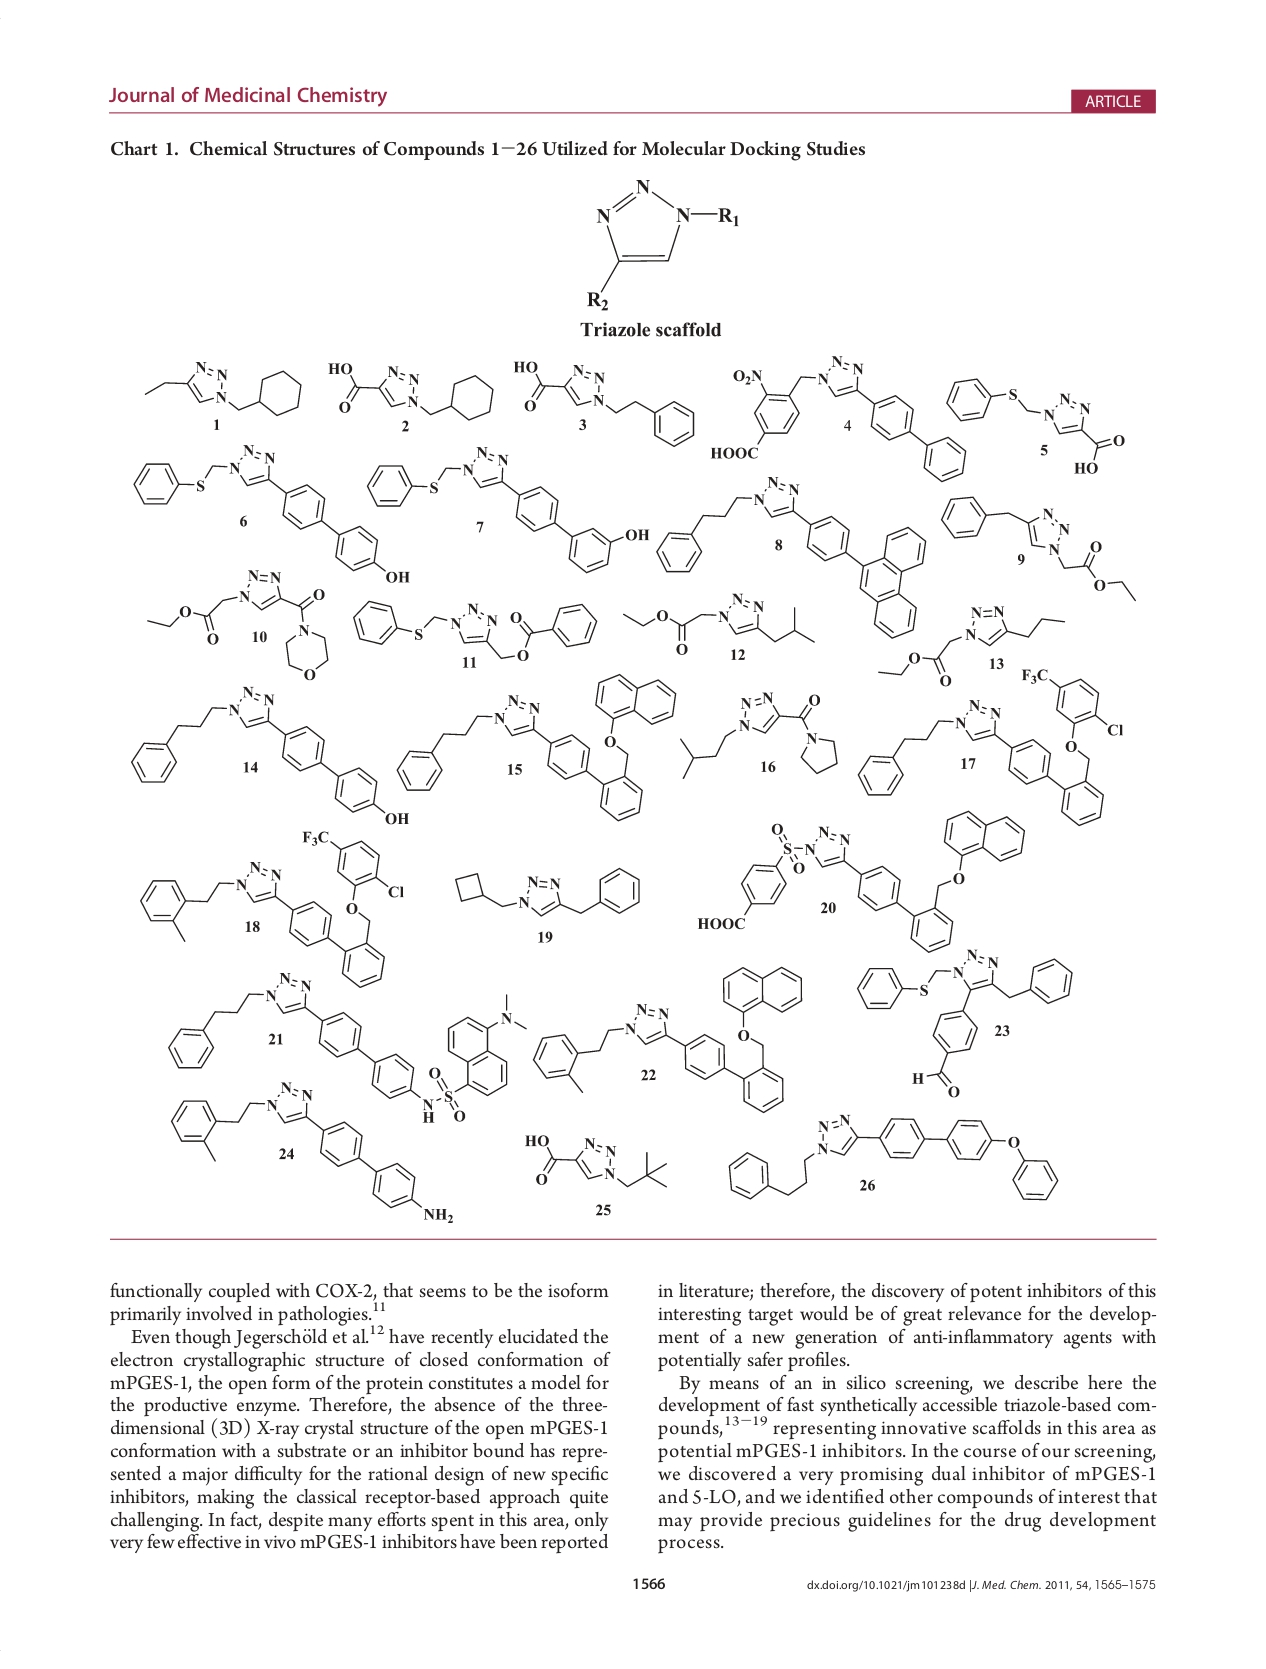exist_molecular: (164, 969, 528, 1122), (694, 807, 1027, 954), (653, 475, 930, 640), (137, 826, 406, 988), (394, 672, 681, 822), (855, 666, 1125, 826), (168, 1079, 457, 1226), (531, 965, 805, 1114), (132, 684, 411, 829), (132, 442, 410, 586), (364, 444, 652, 575), (707, 354, 969, 483), (855, 947, 1075, 1097), (725, 1110, 1060, 1206), (938, 492, 1138, 606), (582, 173, 743, 311), (146, 567, 331, 682), (944, 370, 1129, 479), (509, 355, 699, 449), (351, 594, 598, 664), (872, 602, 1068, 688), (677, 688, 844, 782), (620, 594, 819, 658), (323, 355, 500, 422), (453, 862, 648, 922), (134, 354, 305, 419), (523, 1130, 673, 1194)
